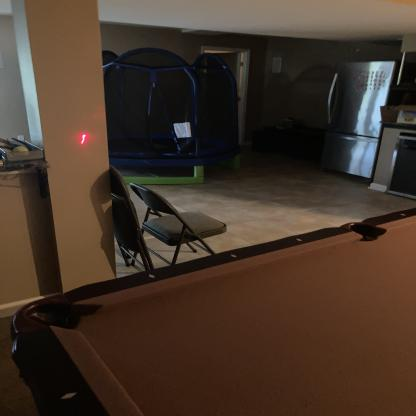target: (75, 131, 92, 146)
